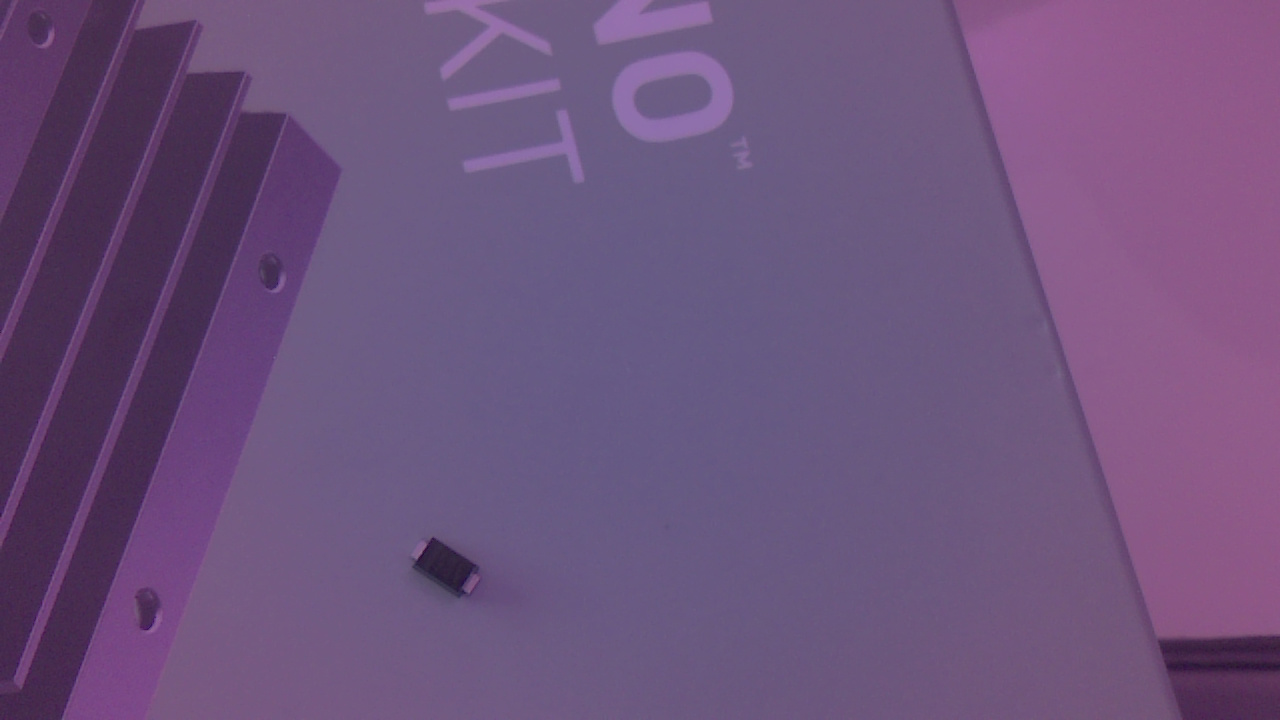Diode: (408, 532, 492, 606)
